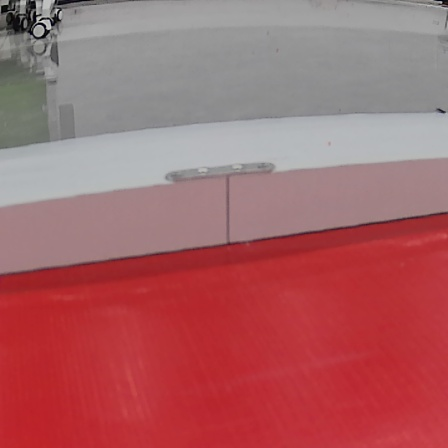red_base: (0, 186, 448, 448)
